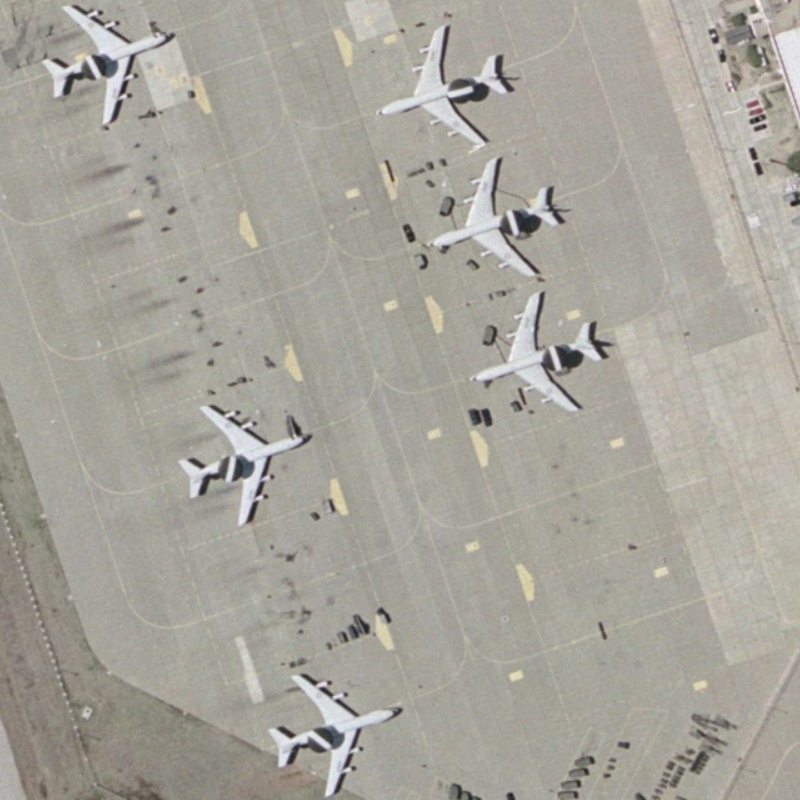A7: (462, 284, 613, 422), (418, 150, 572, 285), (172, 395, 318, 533), (262, 662, 408, 800), (377, 11, 514, 154), (39, 3, 176, 131)
